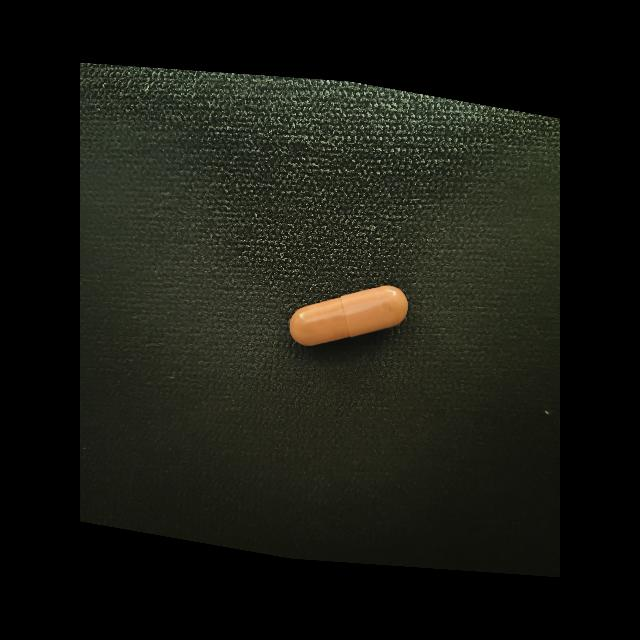Intact Capsule: (290, 285, 408, 346)
